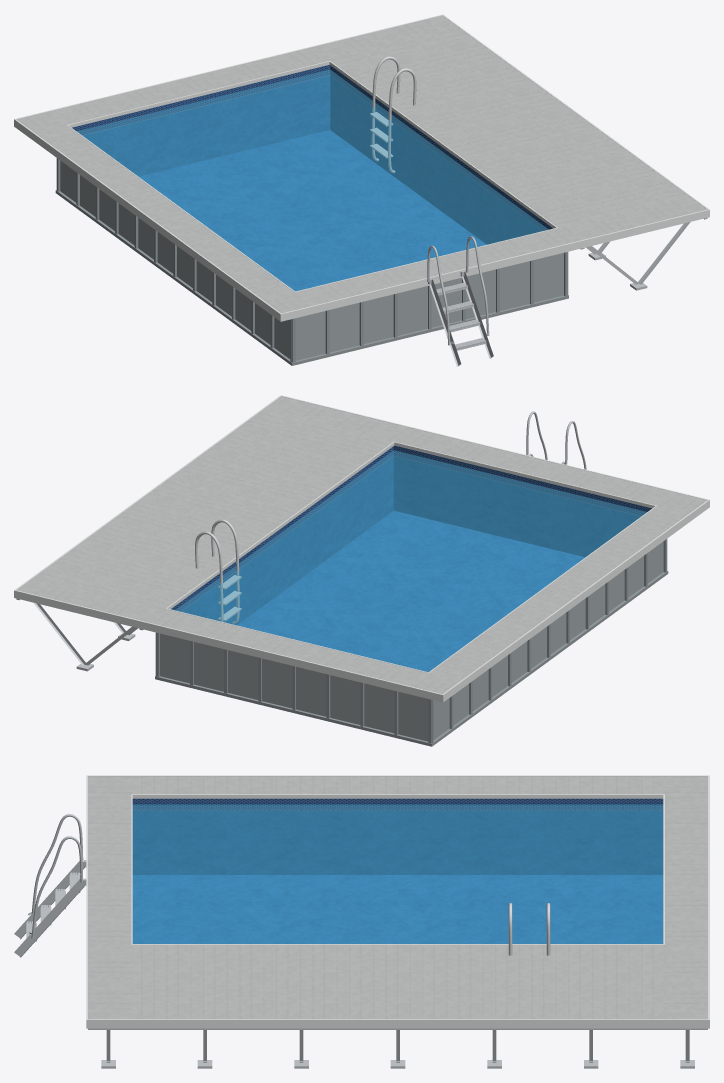
Rendered from kayak-pool-16x24-gray-side-ag-nofence.963cabfc18.glb.
The picture shows the model from 3 angles, top to bottom: view 1: azimuth 30°, elevation 25°; view 2: azimuth 150°, elevation 25°; view 3: azimuth 270°, elevation 25°; orthographic projection. The views are drawn at different scales.
Parts seen in each view (by area): view 1: water, deck, liner_floor, liner_wall, wall, fascia, upright, ladder, steel, stud; view 2: water, deck, liner_floor, liner_wall, wall, fascia, upright, steel, stud, ladder; view 3: water, deck, liner_wall, liner_floor, fascia, stud, ladder, steel.
Boxes of the visible parts, x1,y1,x2,y2 form: water: (77, 69, 548, 291); deck: (16, 15, 707, 313); liner_floor: (139, 130, 486, 291); liner_wall: (72, 65, 552, 244); wall: (60, 161, 563, 360); fascia: (14, 14, 709, 321); upright: (55, 158, 568, 365); ladder: (427, 236, 493, 366); steel: (370, 56, 416, 173); stud: (580, 218, 707, 290); water: (175, 450, 646, 671); deck: (17, 396, 706, 694); liner_floor: (237, 511, 584, 671); liner_wall: (171, 445, 651, 625); wall: (160, 541, 663, 741); fascia: (14, 395, 709, 702); upright: (155, 539, 668, 746); steel: (195, 519, 241, 624); stud: (16, 598, 143, 671); ladder: (526, 411, 586, 469); water: (132, 804, 663, 943); deck: (88, 776, 707, 1019); liner_wall: (132, 798, 663, 874); liner_floor: (132, 875, 663, 943); fascia: (86, 775, 709, 1028); stud: (88, 1028, 707, 1068); ladder: (14, 814, 86, 957); steel: (508, 903, 550, 955).
Size of the model in its own units: 7.93 by 1.9 by 9.52.
Materials: 10 (3 with a texture image).
